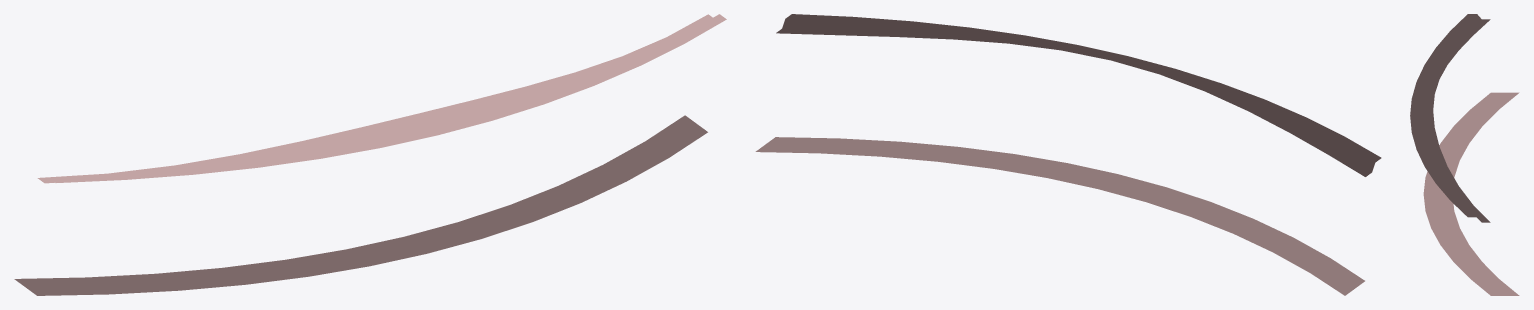
Rendered from neutral.glb.
3 renders of one model, left to right at view 1: azimuth 30°, elevation 25°; view 2: azimuth 150°, elevation 25°; view 3: azimuth 270°, elevation 25°, orthographic. The views are drawn at different scales.
Parts seen in each view (by area): view 1: mouths_neutral; view 2: mouths_neutral; view 3: mouths_neutral.
Part boxes in pixels (x1,y1,x2,y2): mouths_neutral: (14,14,726,295); mouths_neutral: (755,14,1381,295); mouths_neutral: (1410,14,1519,295).
Size of the model in its own units: 0.5 by 0.096 by 0.114.
